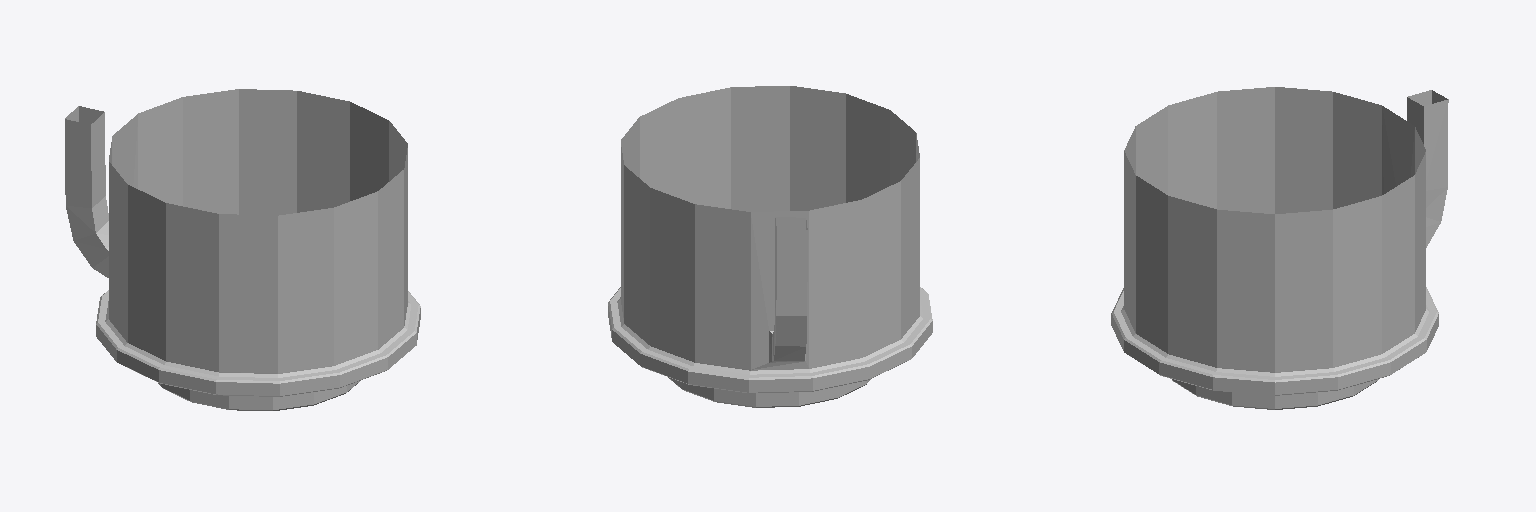
Rendered from rotatingLightMain.obj.
The picture shows the model from 3 angles: view 1: azimuth 30°, elevation 25°; view 2: azimuth 150°, elevation 25°; view 3: azimuth 270°, elevation 25°; orthographic projection.
Visible parts, largest first — view 1: Cube.001; view 2: Cube.001; view 3: Cube.001.
Part boxes in pixels (x1,y1,x2,y2): Cube.001: (65,89,420,410); Cube.001: (608,86,932,407); Cube.001: (1111,87,1448,409).
Bounding box in the file's own units: 0.1651 × 0.1237 × 0.1699.